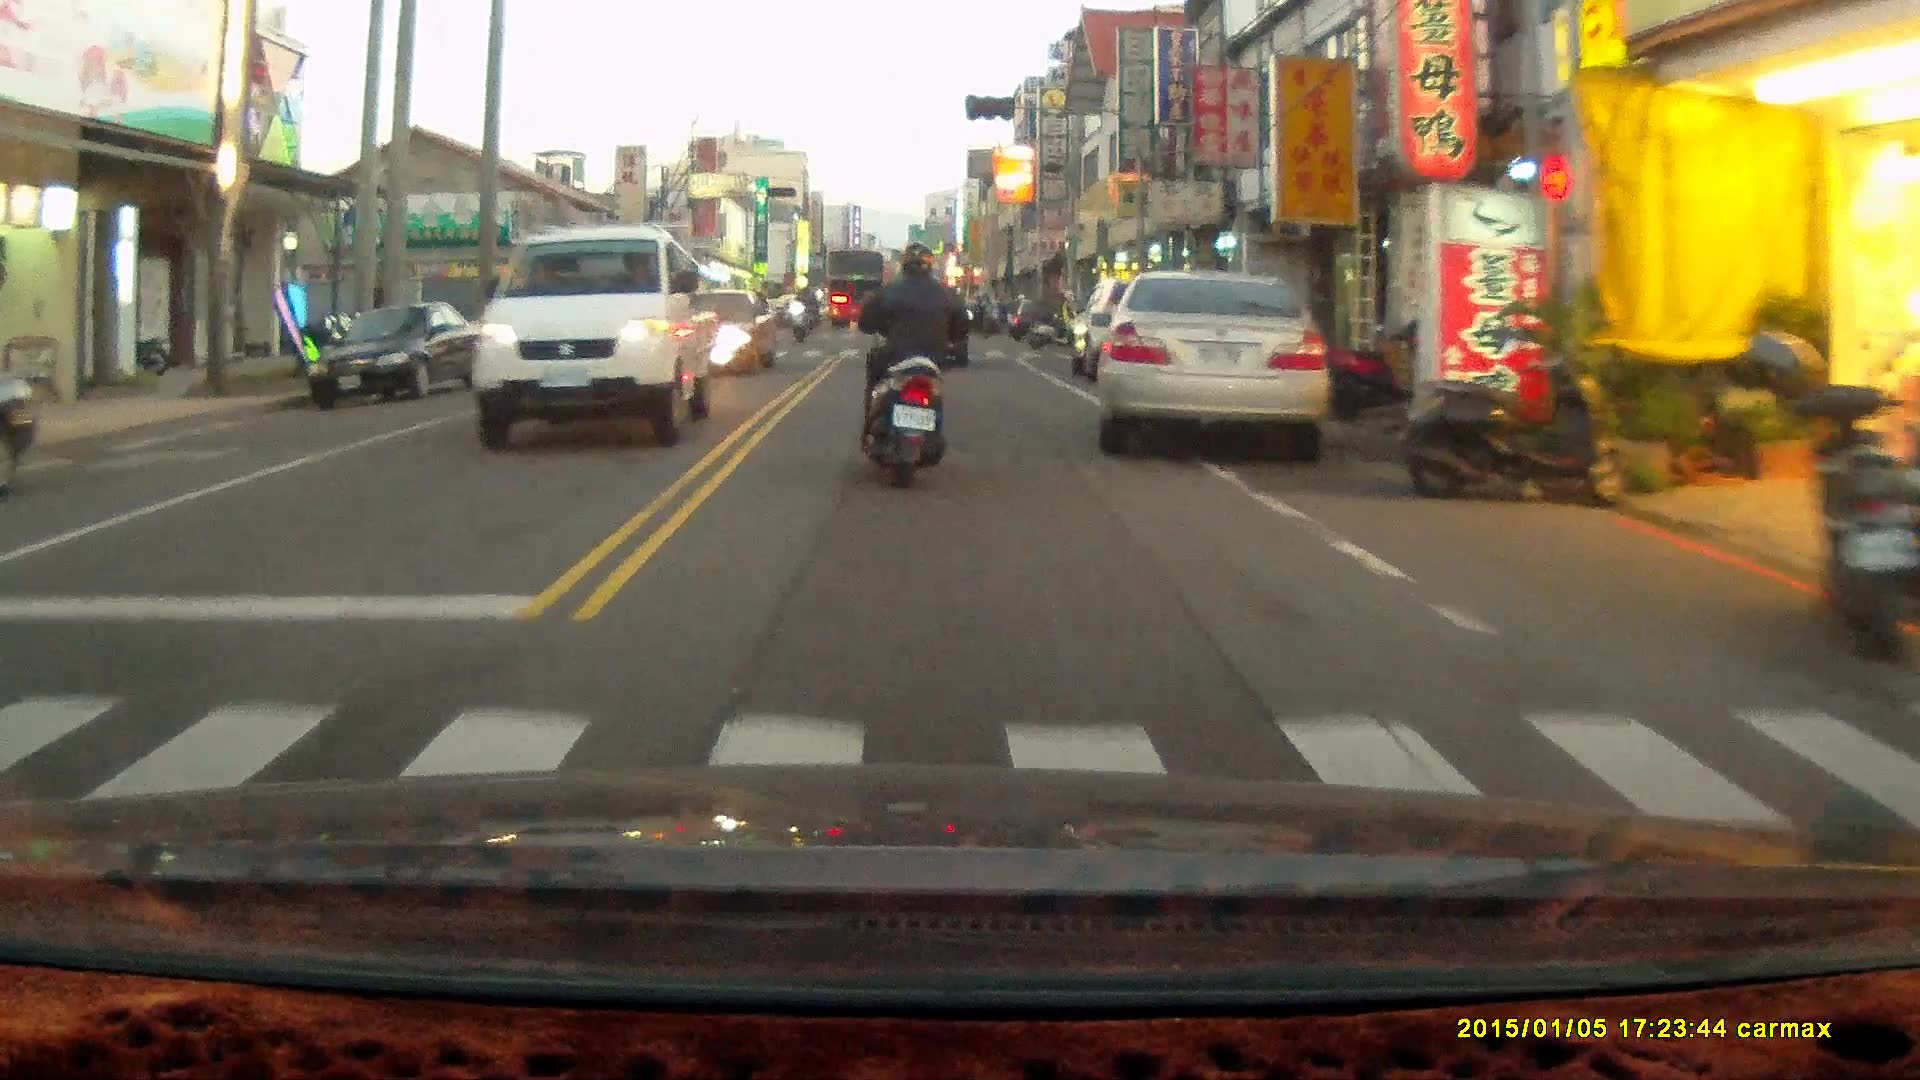rider: (850, 242, 973, 491)
vehicle: (468, 233, 710, 457), (1090, 270, 1334, 463), (306, 308, 483, 410), (823, 252, 888, 334)
